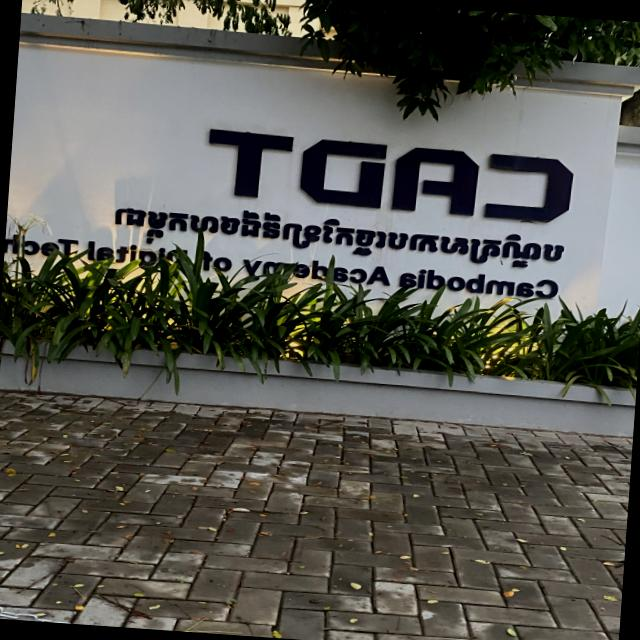Yolov11_80vkh: (107, 193, 573, 277)
